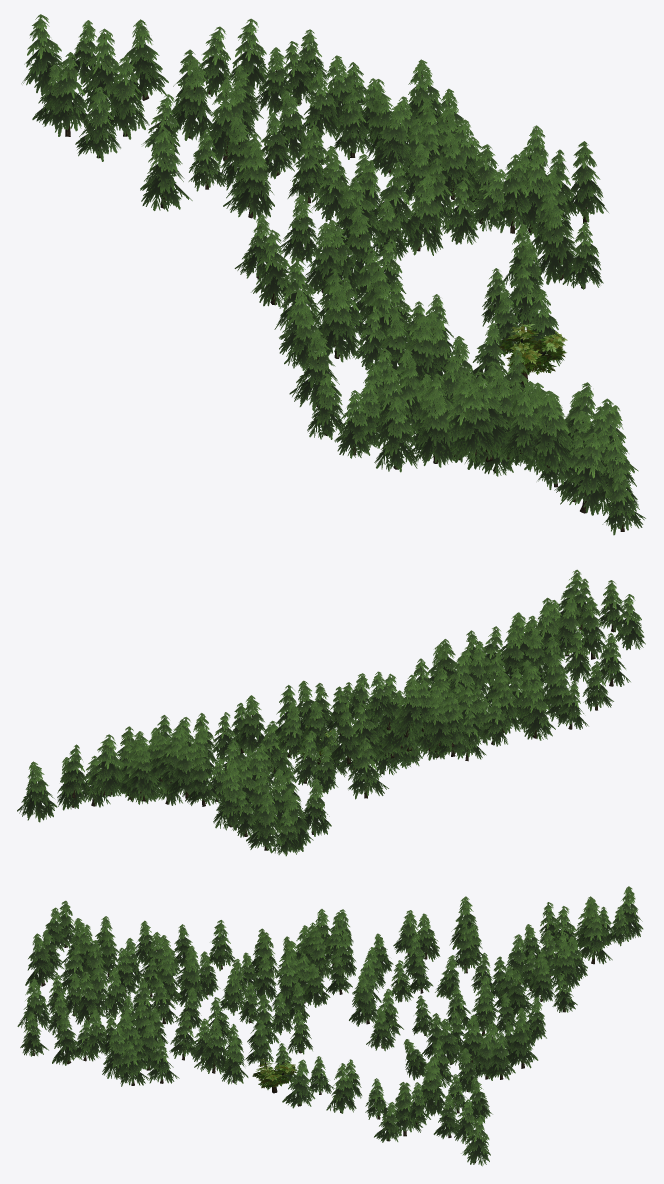
Rendered from Trees_03.fbx.
3 renders of one model, top to bottom at view 1: azimuth 30°, elevation 25°; view 2: azimuth 150°, elevation 25°; view 3: azimuth 270°, elevation 25°, orthographic. The views are drawn at different scales.
Visible parts, largest first — view 1: Trees_3; view 2: Trees_3; view 3: Trees_3.
Boxes of the visible parts, x1,y1,x2,y2 form: Trees_3: [21, 14, 645, 535]; Trees_3: [17, 569, 645, 856]; Trees_3: [17, 886, 643, 1166].
Size of the model in its own units: 8635 by 3461 by 13805.
